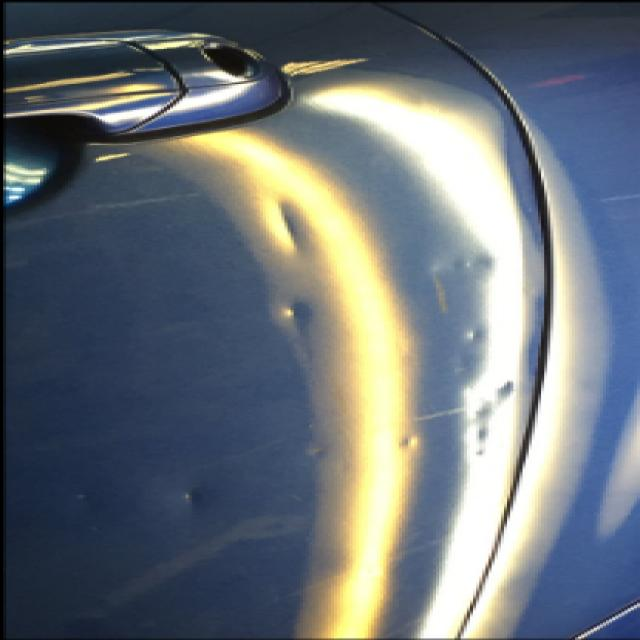dents: (143, 452, 260, 548), (452, 374, 560, 477), (468, 374, 554, 492), (245, 289, 378, 361), (249, 184, 330, 268), (439, 243, 525, 294), (382, 419, 452, 468), (448, 326, 510, 348)
